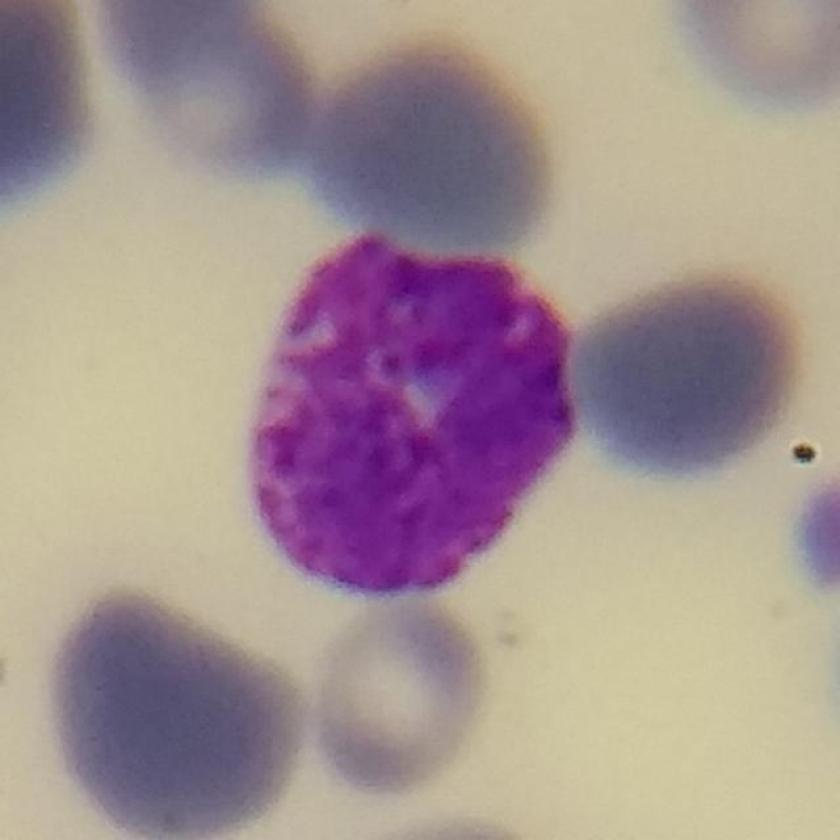basophil: (254, 205, 584, 604)
